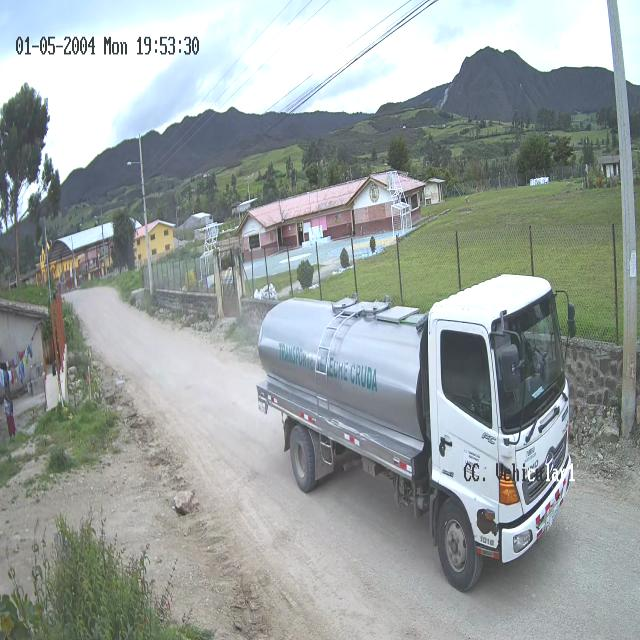TRUCK: (257, 275, 573, 592)
